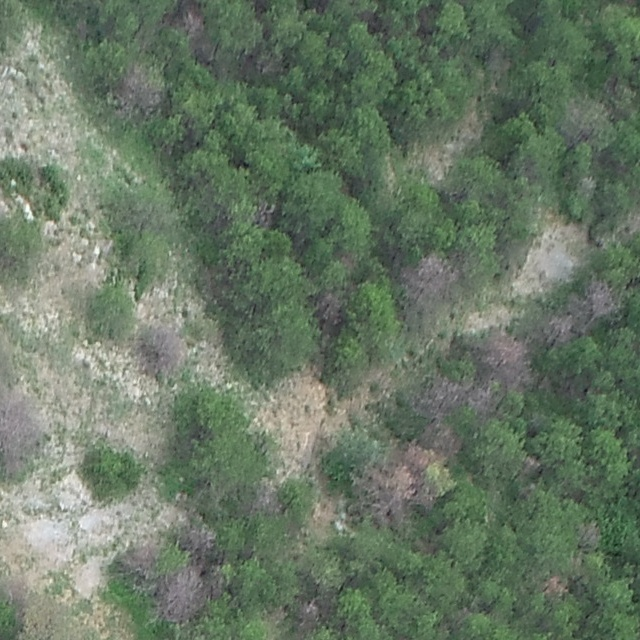unhealthy: (360, 457, 416, 527), (0, 384, 42, 467), (399, 250, 459, 306), (480, 330, 535, 389), (155, 565, 204, 622), (112, 64, 163, 118), (414, 374, 466, 417), (144, 322, 187, 373), (562, 94, 606, 142), (542, 304, 581, 348), (420, 423, 464, 460), (583, 278, 620, 321), (122, 538, 161, 573), (313, 287, 346, 327), (466, 381, 501, 418), (173, 2, 206, 36), (182, 523, 217, 555), (252, 480, 283, 514), (402, 441, 436, 471), (575, 519, 604, 549), (485, 42, 511, 75), (252, 199, 280, 228), (295, 597, 321, 627), (542, 573, 569, 599), (191, 39, 217, 63), (519, 452, 541, 476), (577, 171, 597, 195)
